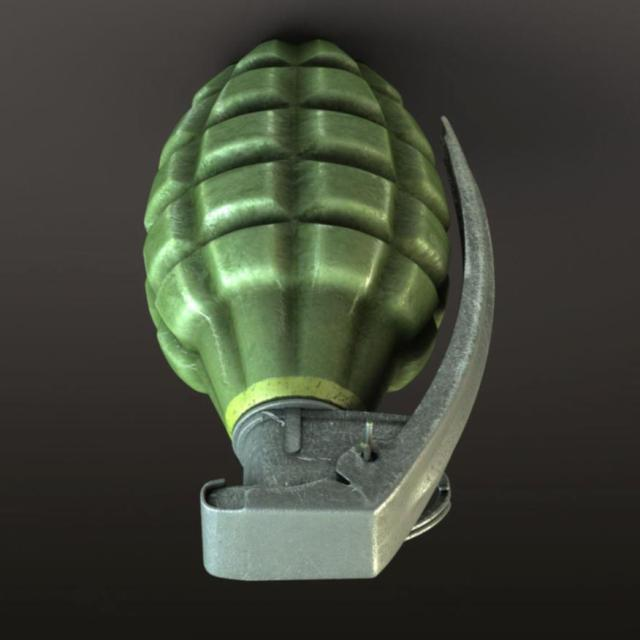grenade: (145, 38, 496, 582)
